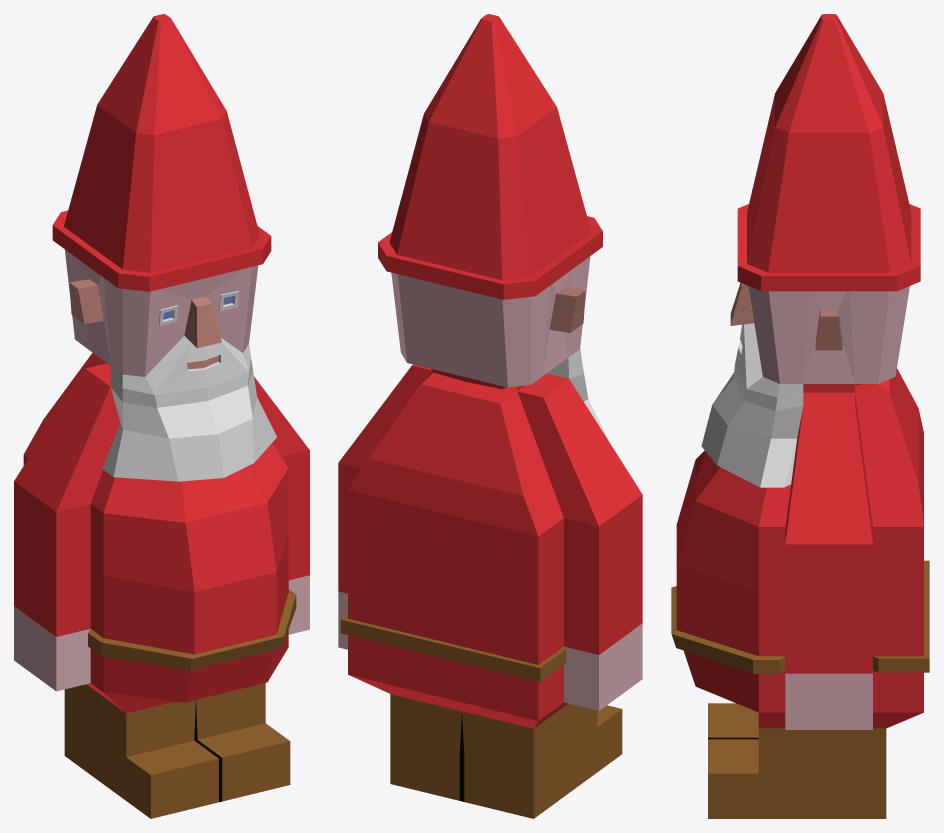
Rendered from Garden_gnome.fbx.
3 views of the same model, side by side, from view 1: azimuth 30°, elevation 25°; view 2: azimuth 150°, elevation 25°; view 3: azimuth 270°, elevation 25° (orthographic). The views are drawn at different scales.
Visible parts, largest first — view 1: Cube; view 2: Cube; view 3: Cube.
Boxes of the visible parts, left/top/right/bottom form: Cube: left=14, top=14, right=309, bottom=818; Cube: left=338, top=14, right=642, bottom=818; Cube: left=671, top=14, right=929, bottom=818.
Bounding box in the file's own units: 46.08 × 129 × 39.28.
